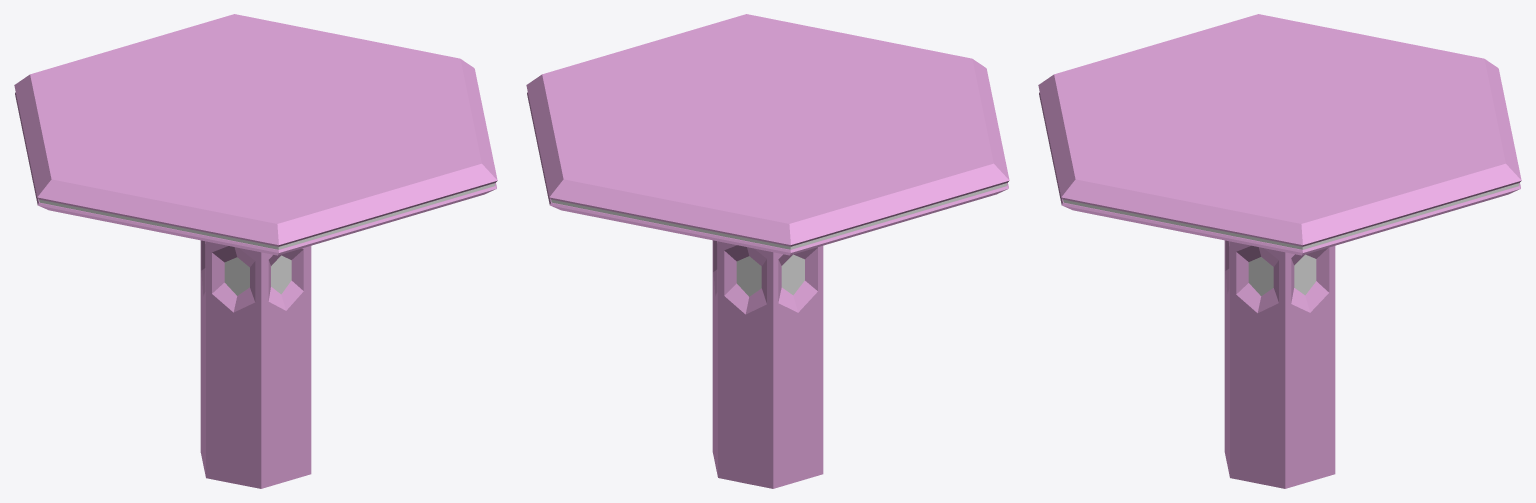
File: masason.fbx
3 views of the same model, side by side, from view 1: azimuth 30°, elevation 25°; view 2: azimuth 150°, elevation 25°; view 3: azimuth 270°, elevation 25° (orthographic).
Parts seen in each view (by area): view 1: Circle.001; view 2: Circle.001; view 3: Circle.001.
Boxes of the visible parts, x1,y1,x2,y2 form: Circle.001: [14, 14, 497, 488]; Circle.001: [526, 14, 1009, 488]; Circle.001: [1038, 14, 1521, 488].
Bounding box in the file's own units: 1155 × 826 × 1050.
